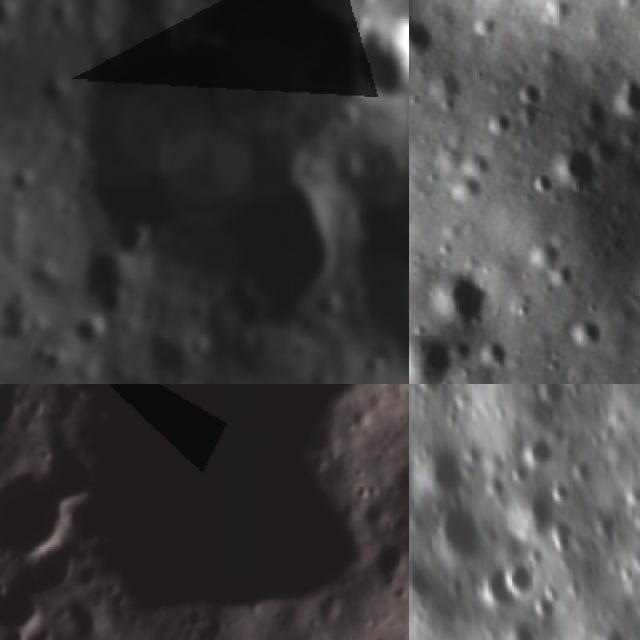crater: (23, 384, 409, 628), (0, 471, 77, 559), (21, 537, 97, 596), (351, 20, 409, 96), (38, 441, 104, 506), (429, 264, 492, 328), (543, 139, 610, 193), (409, 331, 472, 384), (425, 439, 480, 499), (435, 499, 489, 559), (0, 577, 53, 632), (409, 548, 445, 605), (607, 66, 640, 123), (89, 273, 131, 316), (409, 8, 441, 63), (505, 558, 546, 600), (476, 564, 514, 608), (110, 219, 153, 256), (372, 541, 409, 580), (525, 433, 562, 471), (30, 342, 68, 376), (554, 475, 588, 511), (0, 384, 25, 430), (550, 519, 586, 550), (593, 503, 624, 538), (347, 475, 380, 507), (536, 384, 574, 409), (0, 296, 25, 330), (576, 454, 602, 481), (187, 335, 208, 357), (416, 384, 460, 393), (629, 506, 640, 533), (197, 0, 223, 8)
